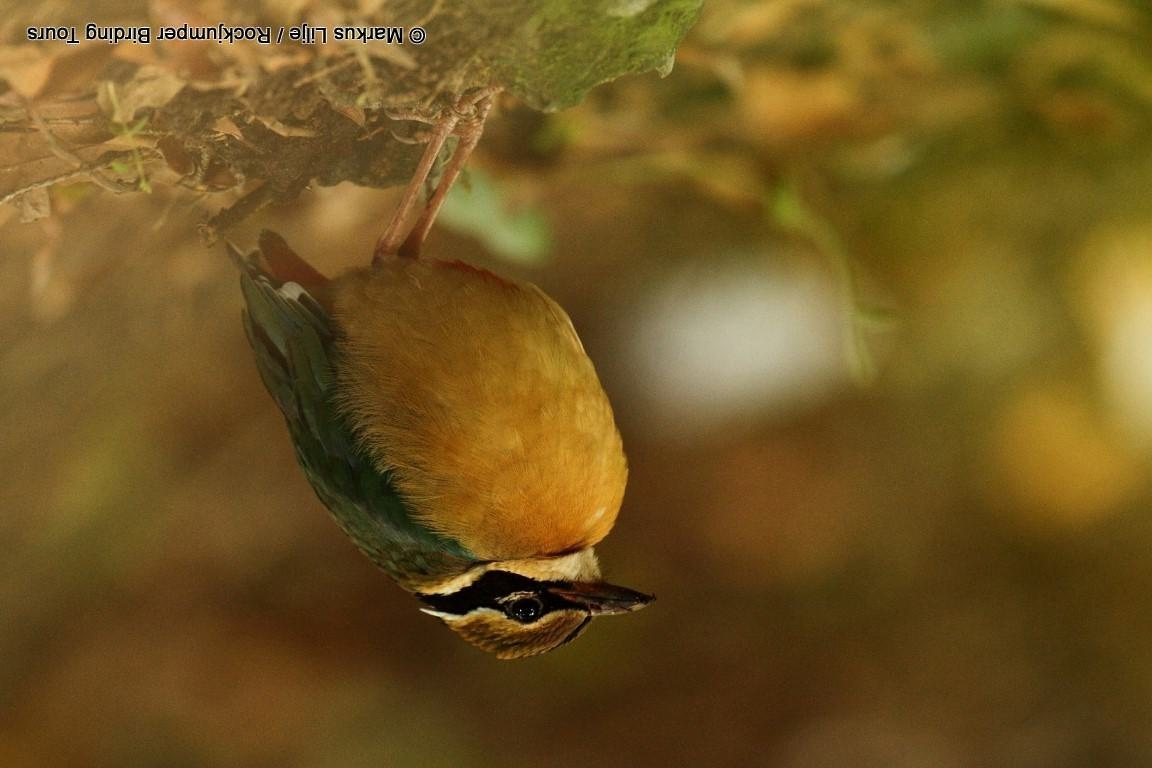pitta: (200, 111, 709, 690)
